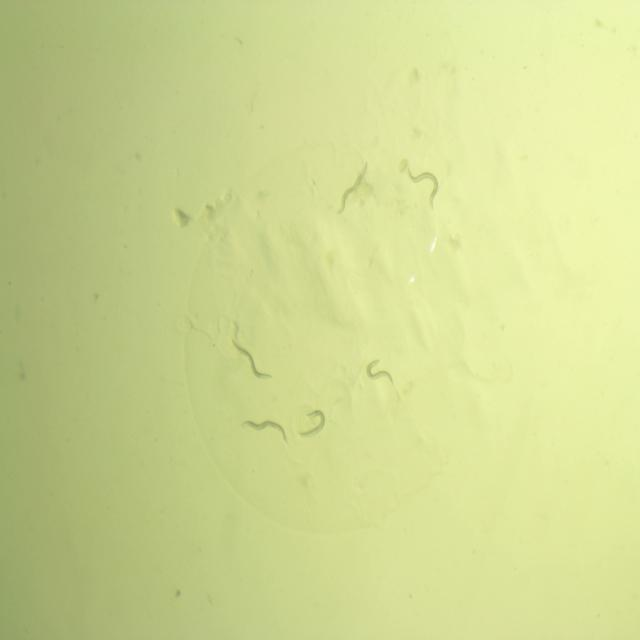worm: (334, 159, 372, 218), (230, 333, 274, 382), (405, 163, 441, 214), (236, 419, 292, 446), (295, 407, 328, 443), (363, 356, 398, 388)
